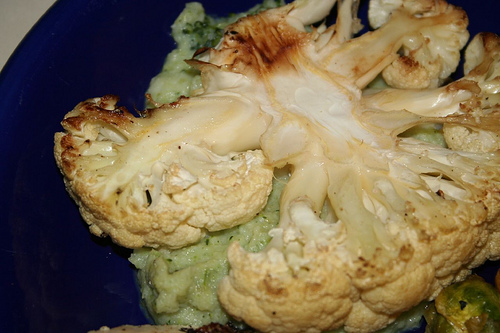cauliflower: (52, 0, 499, 332)
